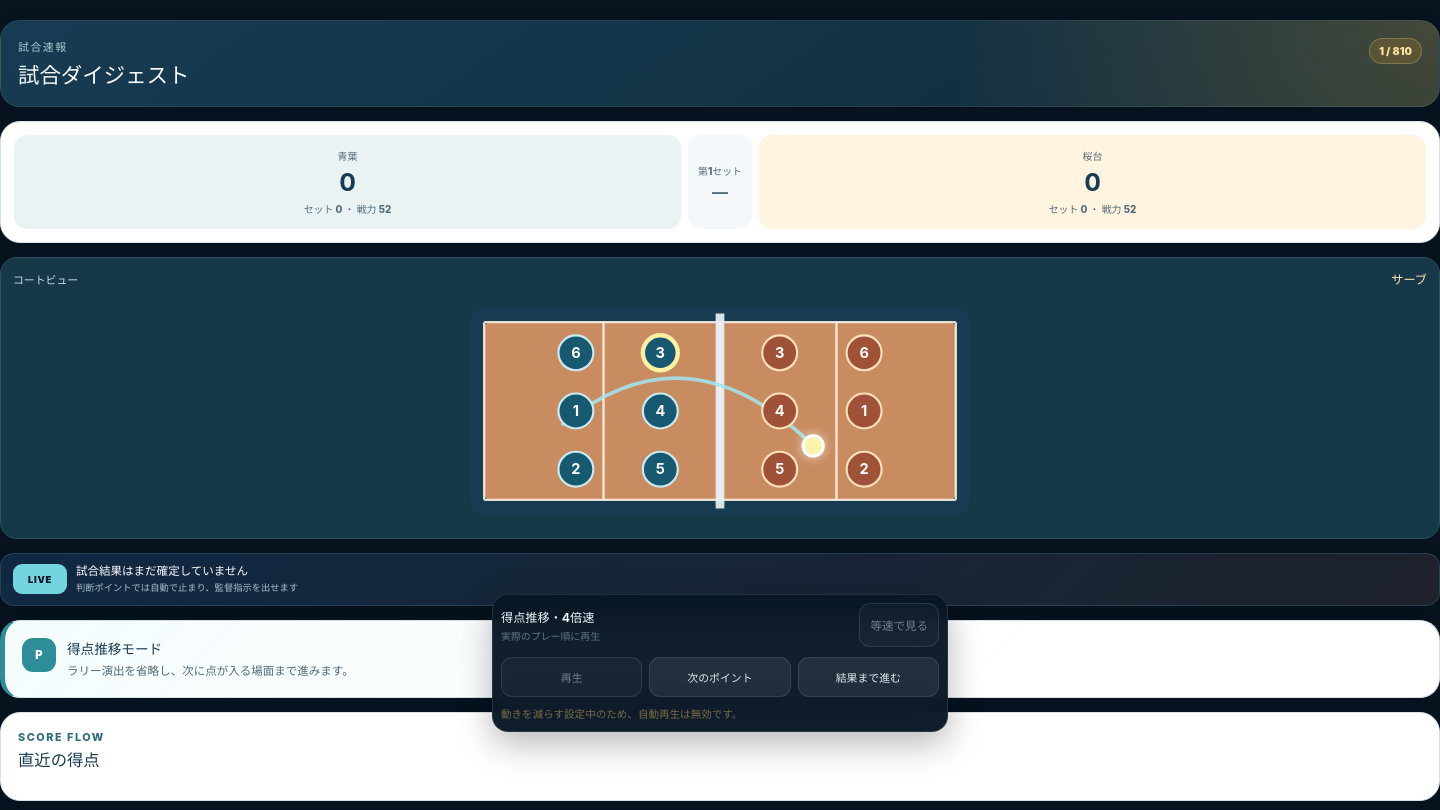
Scenario: match flow › ranks player cards by review and shows real attack rates without mutating the match
The width and height of the screenshot is (1440, 810).
Click the button "結果まで進む" at point(868, 677), box [798,657,939,697]
(page scrolled)
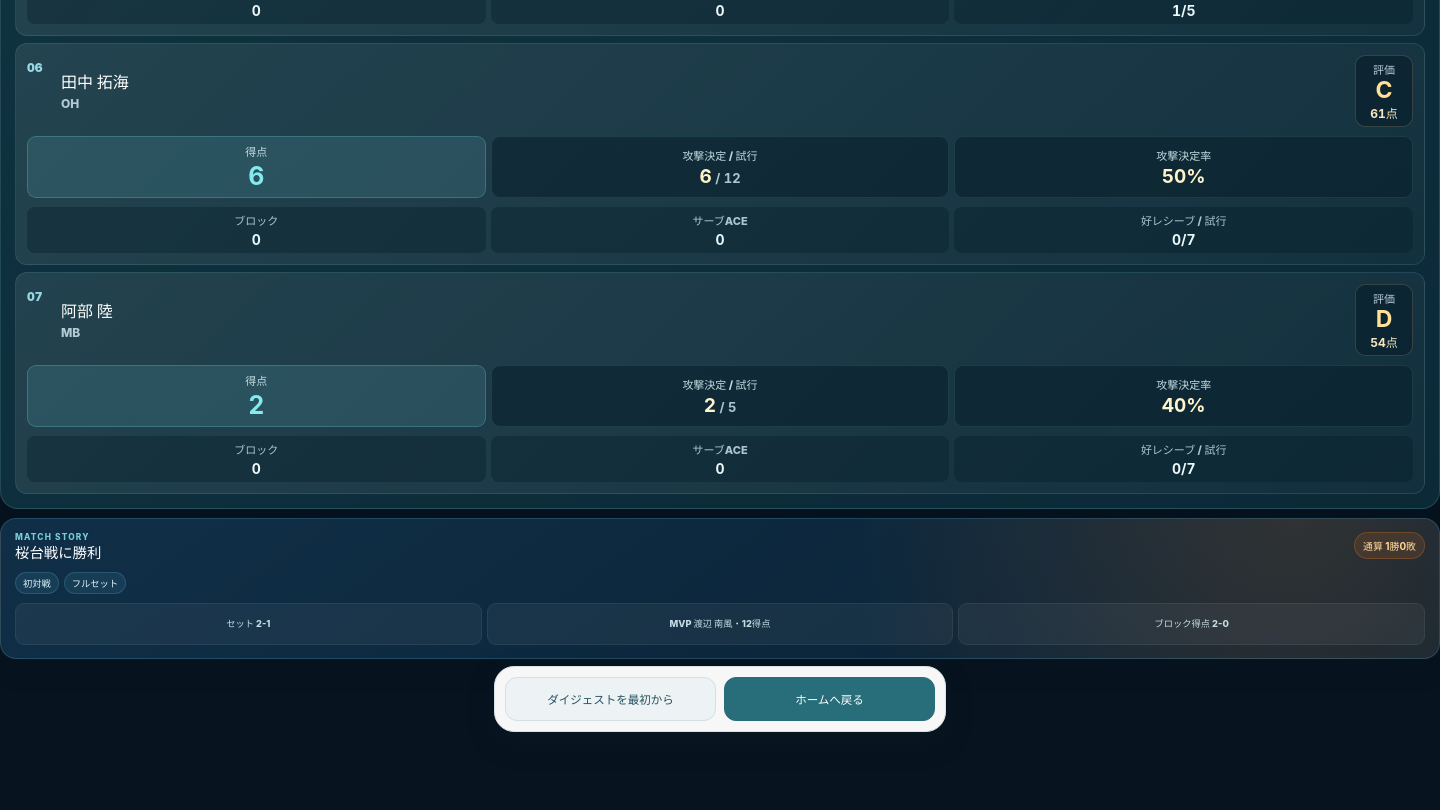
Expected: the number of elements with test id "match-player-result-card" is 7
Expected: the text "6" is shown, [248,162,264,191]
Expected: the text "2" is shown, [248,391,264,420]
